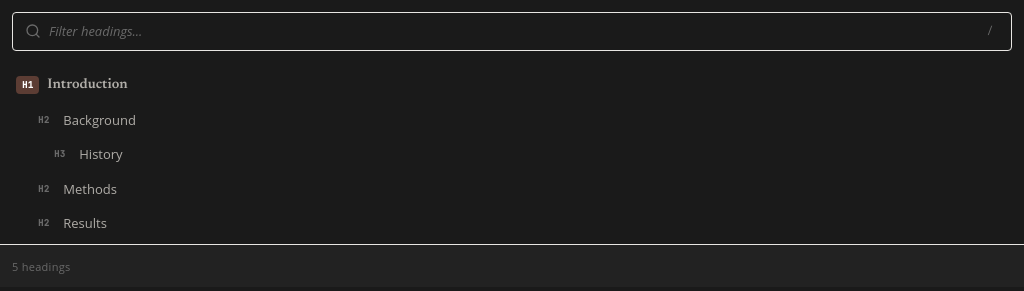
Scenario: DocumentOutline › filters headings based on search input
Type "method" into the field with test id "outline-filter" at [511, 31], box [49,21,973,42]
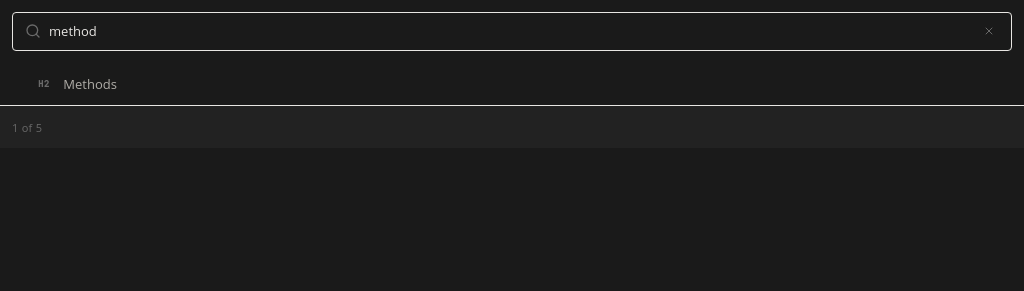
Check: the button "Introduction" is gone
Check: the button "Background" is gone
Check: the button "Results" is gone
